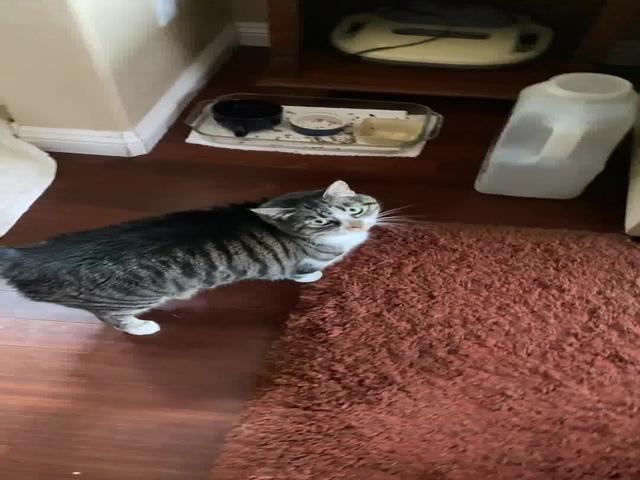playdoh: (1, 176, 383, 340)
